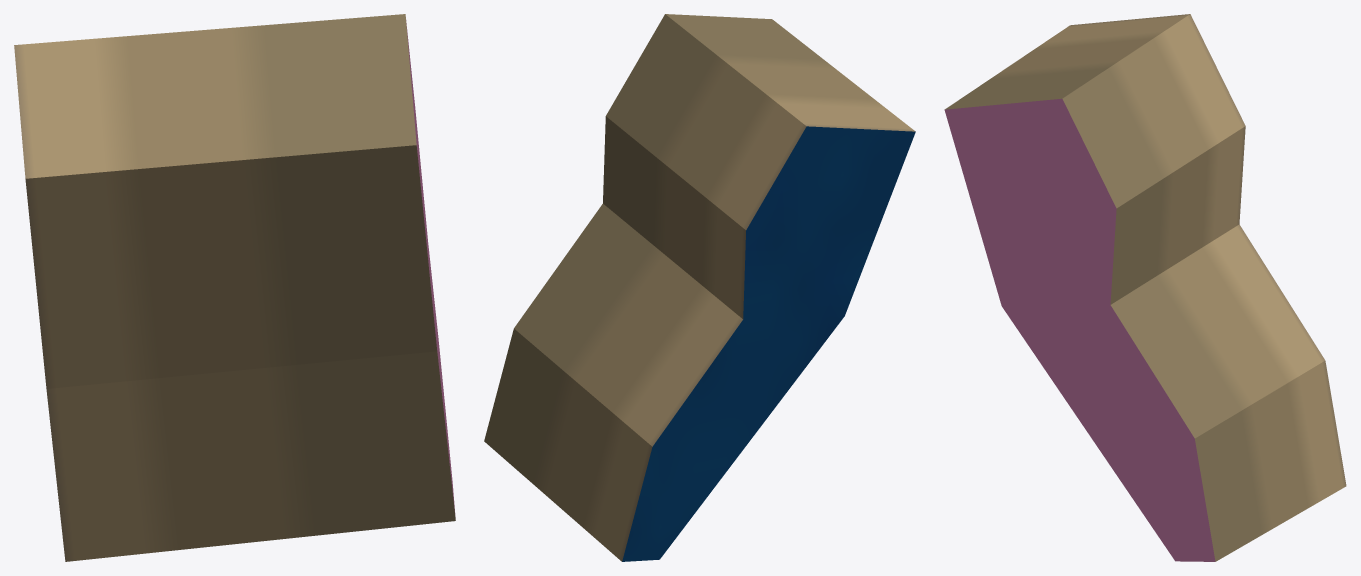
File: 0620_Nepal.glb
The picture shows the model from 3 angles, left to right: view 1: azimuth 30°, elevation 25°; view 2: azimuth 150°, elevation 25°; view 3: azimuth 270°, elevation 25°; orthographic projection. The views are drawn at different scales.
Parts seen in each view (by area): view 1: part_0; view 2: part_0; view 3: part_0.
Part boxes in pixels (bbox=[...]): part_0: bbox=[14, 14, 455, 561]; part_0: bbox=[484, 14, 915, 561]; part_0: bbox=[944, 14, 1346, 561].
Bounding box in the file's own units: 0.3124 × 0.3568 × 0.2931.
1 material, 1 textured.
